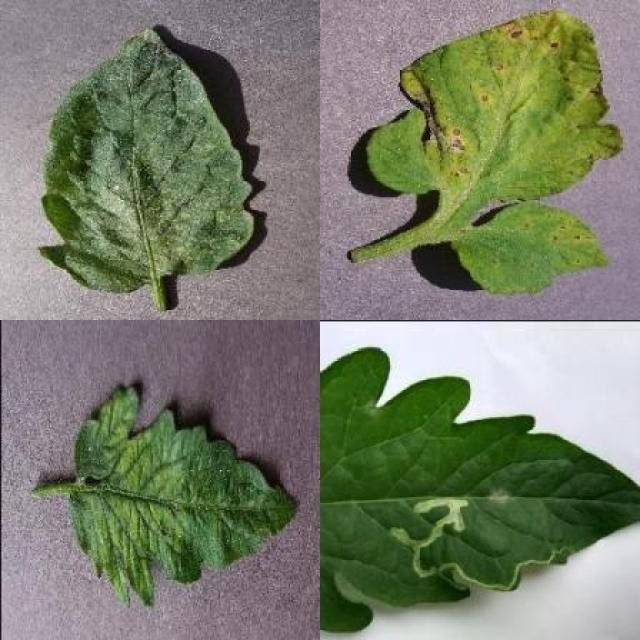Leaf Miner: (320, 344, 640, 632)
Mosaic Virus: (67, 384, 300, 610)
Septoria: (364, 8, 625, 202), (454, 203, 609, 298)
Spider Mites: (39, 25, 255, 292)
